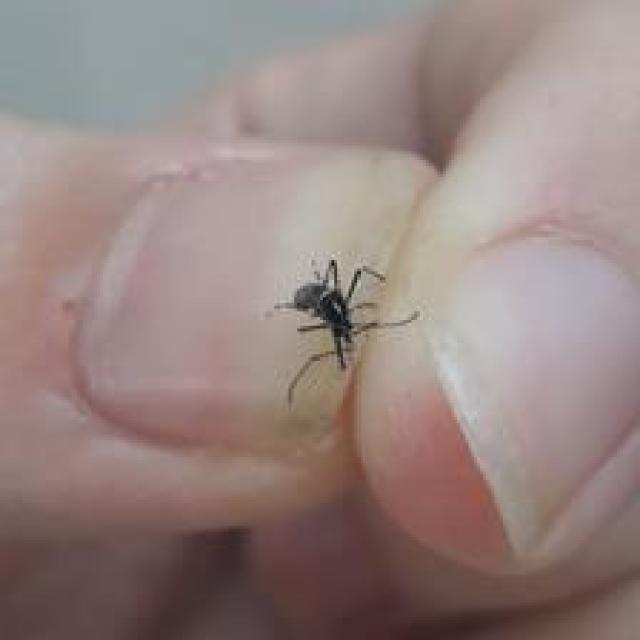Aedes albopictus: (264, 253, 419, 410)
